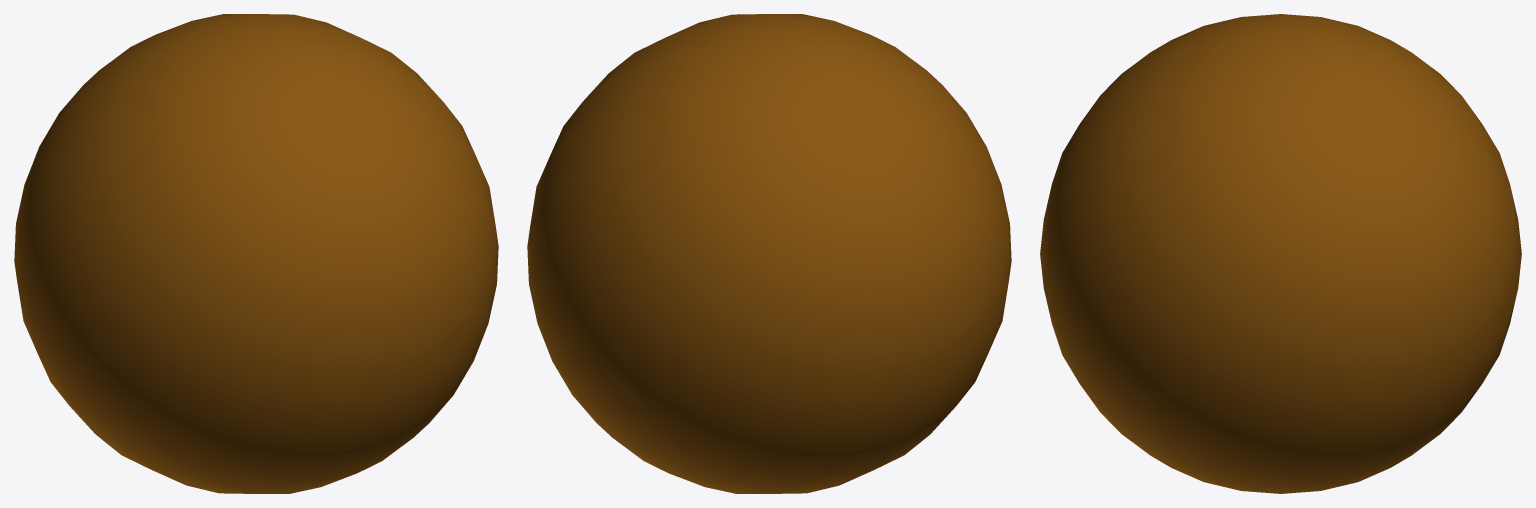
Rendered from original-21.obj.
3 renders of one model, left to right at view 1: azimuth 30°, elevation 25°; view 2: azimuth 150°, elevation 25°; view 3: azimuth 270°, elevation 25°, orthographic.
Parts seen in each view (by area): view 1: Sphere_1_7/Sphere_1/mesh26/mesh26-geometry#mesh26-geometry; view 2: Sphere_1_7/Sphere_1/mesh26/mesh26-geometry#mesh26-geometry; view 3: Sphere_1_7/Sphere_1/mesh26/mesh26-geometry#mesh26-geometry.
Boxes of the visible parts, left/top/right/bottom form: Sphere_1_7/Sphere_1/mesh26/mesh26-geometry#mesh26-geometry: left=14, top=14, right=498, bottom=493; Sphere_1_7/Sphere_1/mesh26/mesh26-geometry#mesh26-geometry: left=527, top=14, right=1011, bottom=493; Sphere_1_7/Sphere_1/mesh26/mesh26-geometry#mesh26-geometry: left=1040, top=14, right=1521, bottom=493.
Size of the model in its own units: 0.1425 by 0.1425 by 0.1425.
